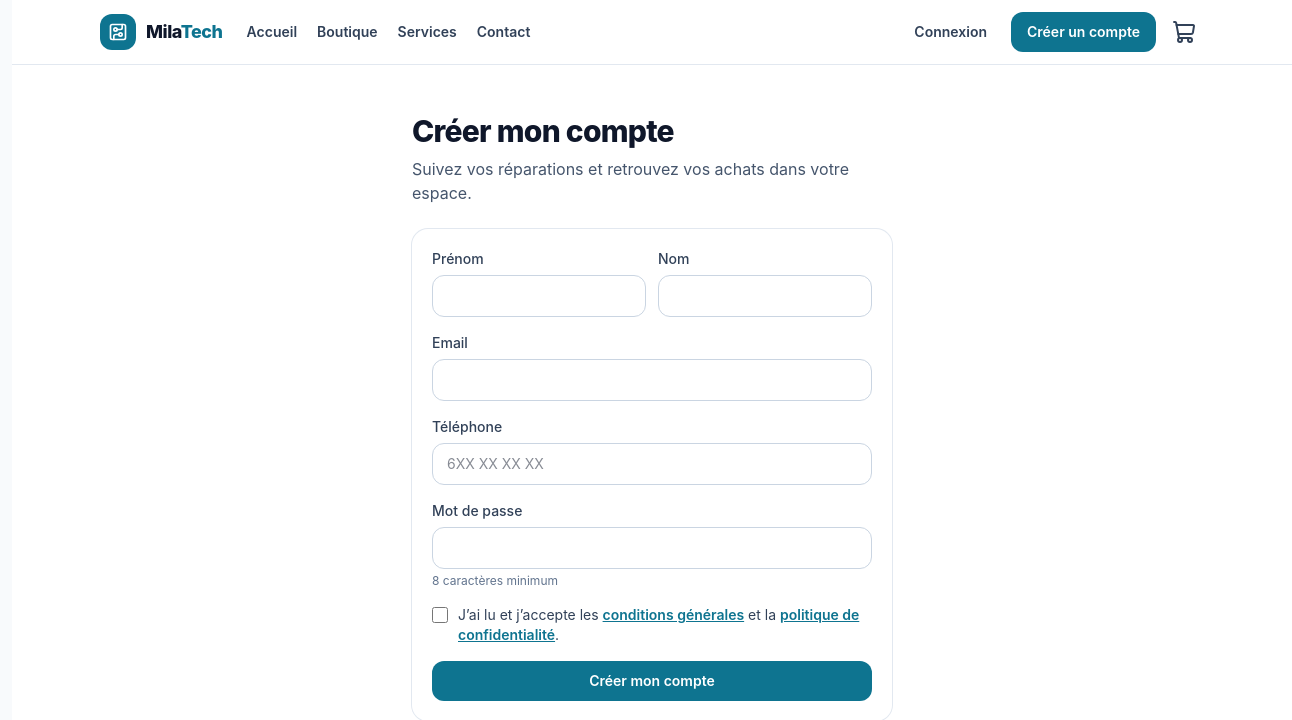
Test: Site public › cree un compte client et ouvre son espace
Step 1. Type "Awa" into the field labelled "Prénom" → [539, 296], box [432, 275, 646, 317]
Step 2. Type "Ngono" into the field labelled "Nom" → [765, 296], box [658, 275, 872, 317]
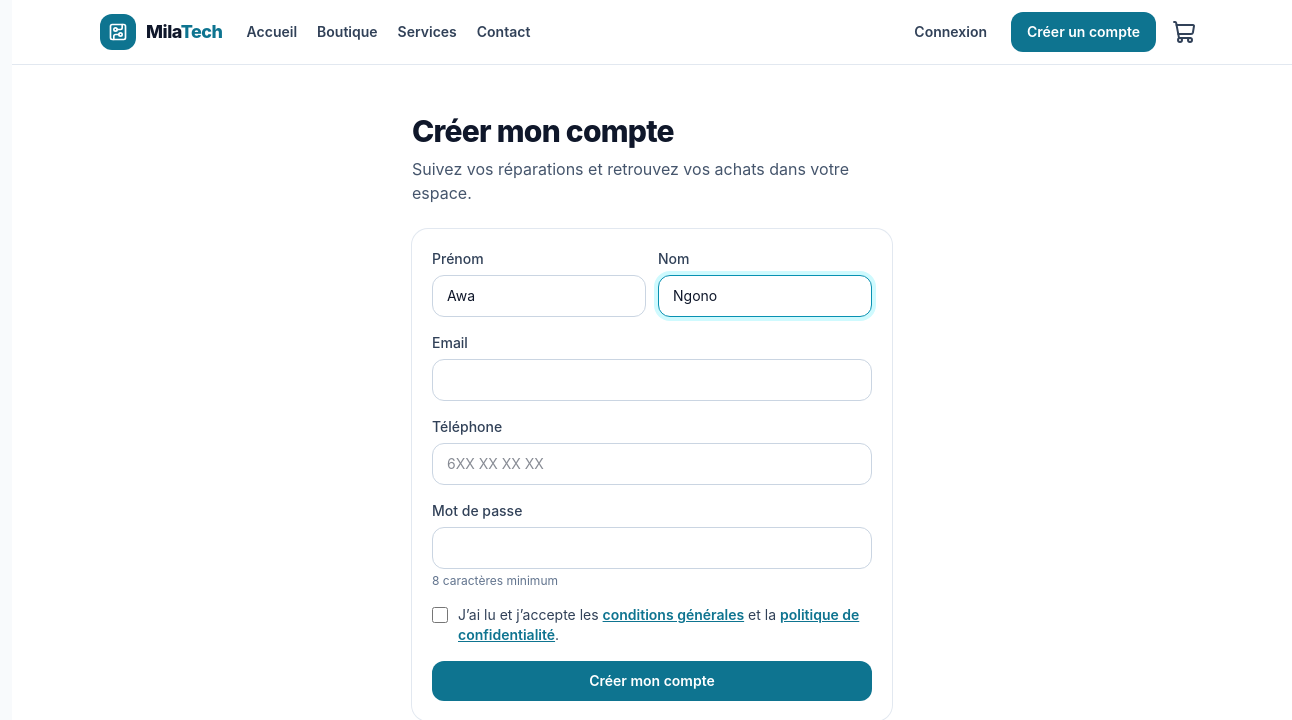
Step 3. Type "awa@client.test" into the field labelled "Email" → [652, 380], box [432, 359, 872, 401]
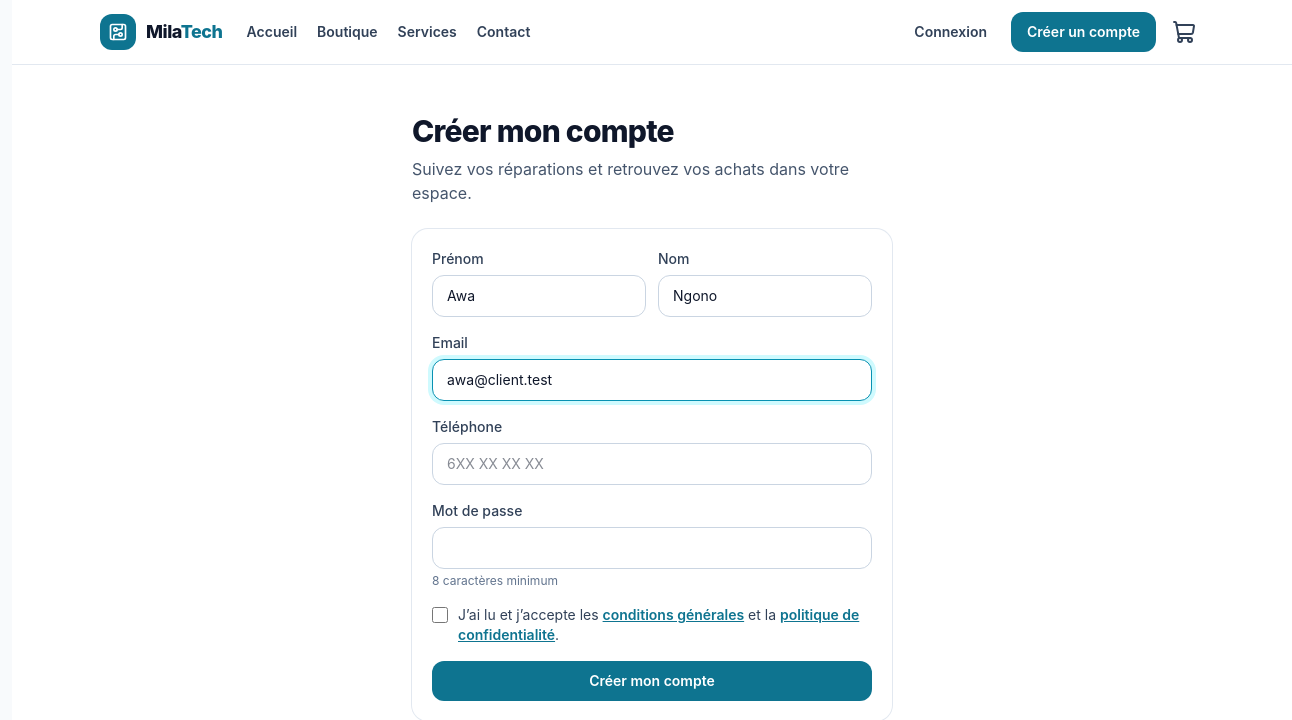
Step 4. Type "677112233" into the field labelled "Téléphone" → [652, 464], box [432, 443, 872, 485]
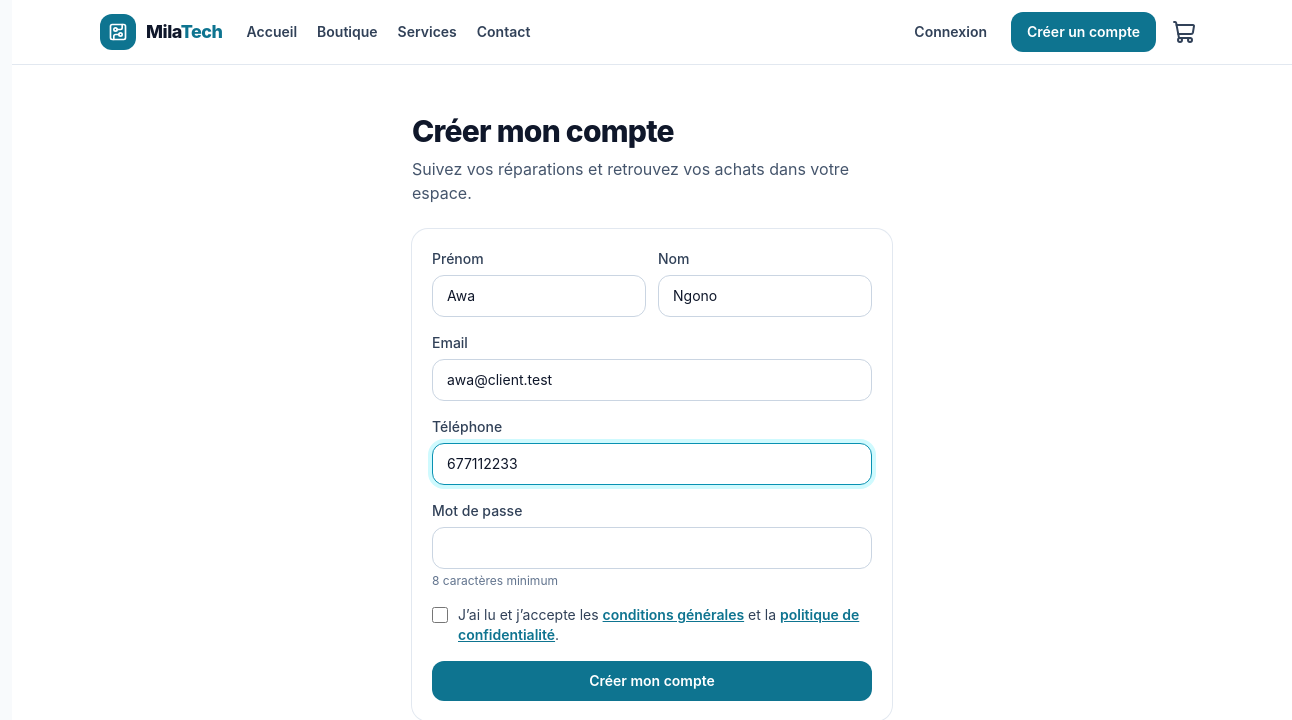
Step 5. Type "motdepasse-solide" into the password field labelled "Mot de passe" → [652, 548], box [432, 527, 872, 569]
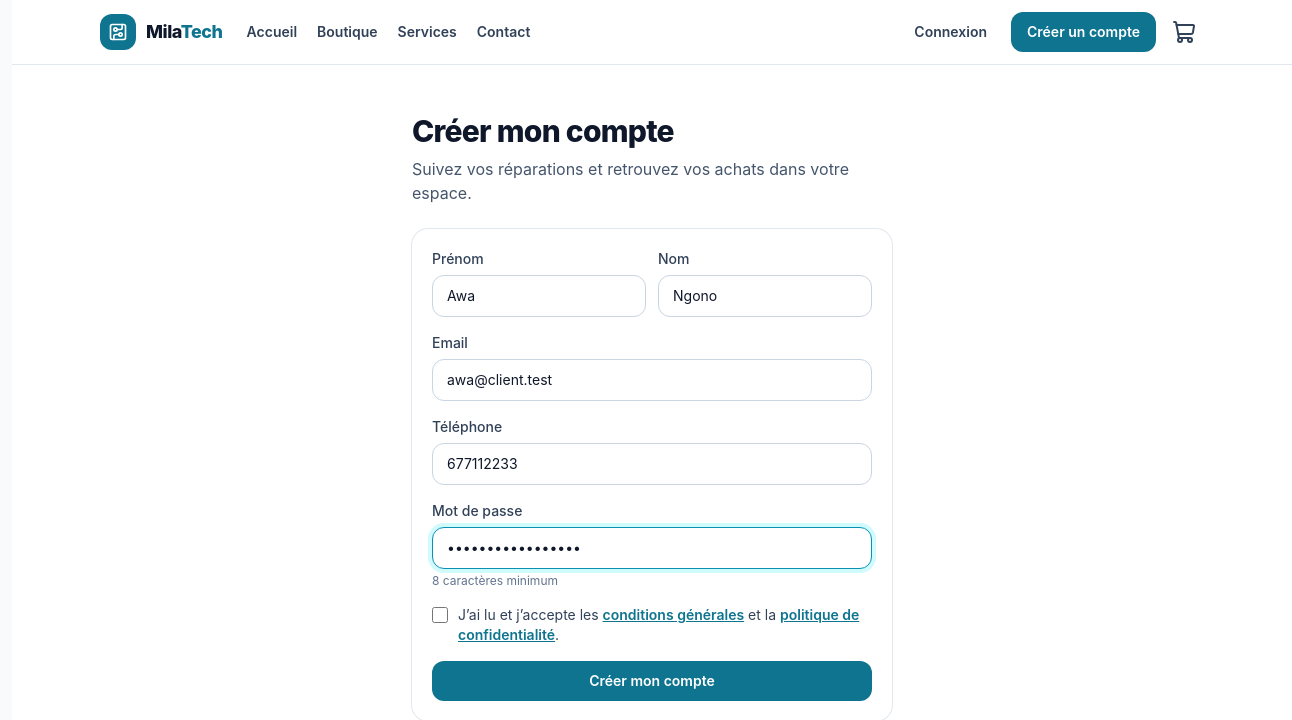
Step 6. Click the checkbox labelled "J’ai lu et j’accepte les conditions générales" → [440, 615], box [432, 607, 448, 623]
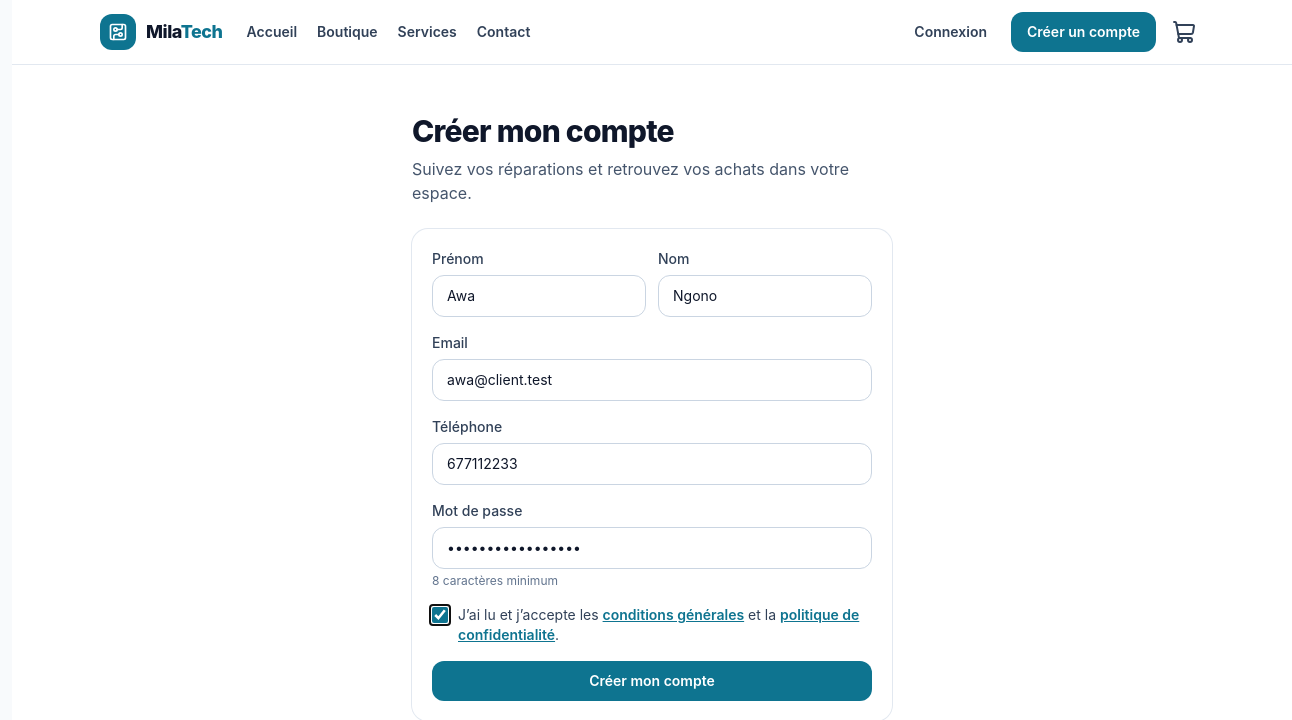
Step 7. Click the button "Créer mon compte" → [652, 681], box [432, 661, 872, 701]
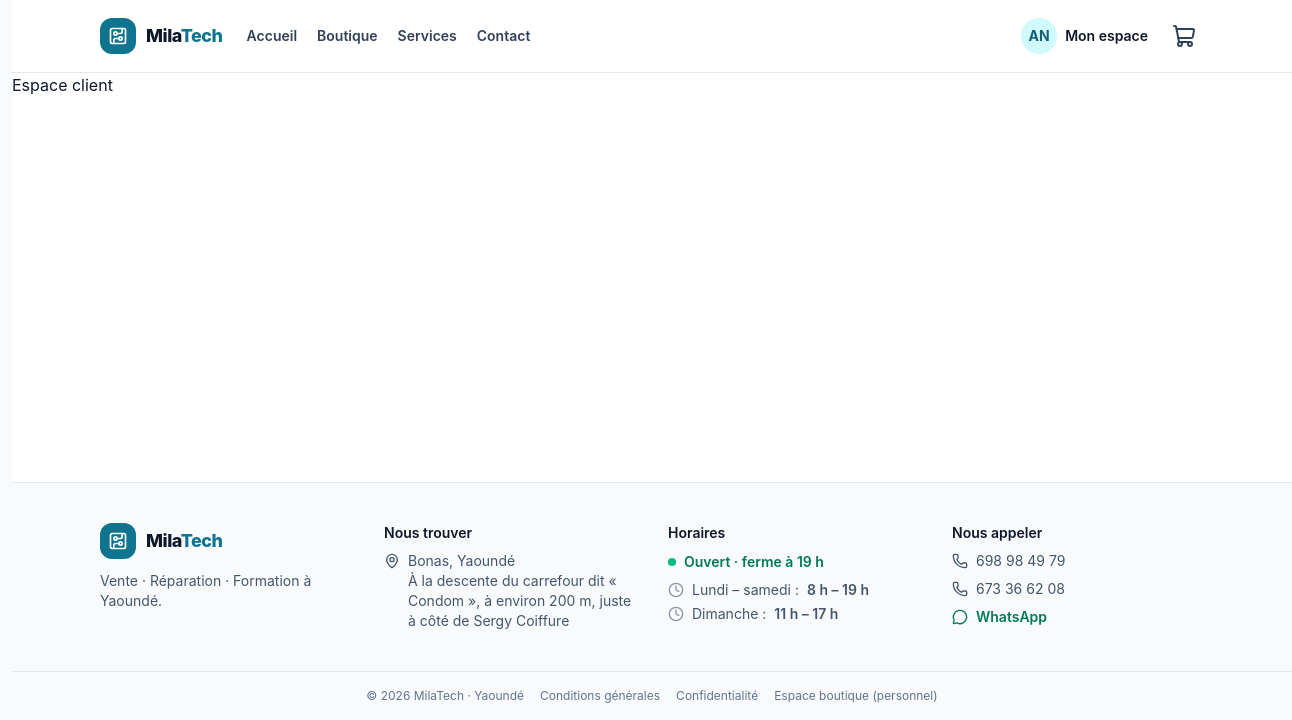
Expected: the text "Espace client" is shown, [12, 75, 113, 95]
